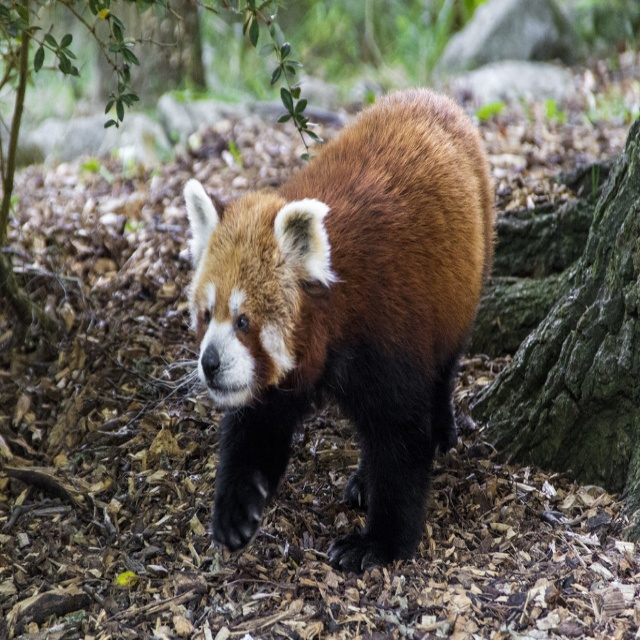Red panda: (185, 83, 497, 575)
